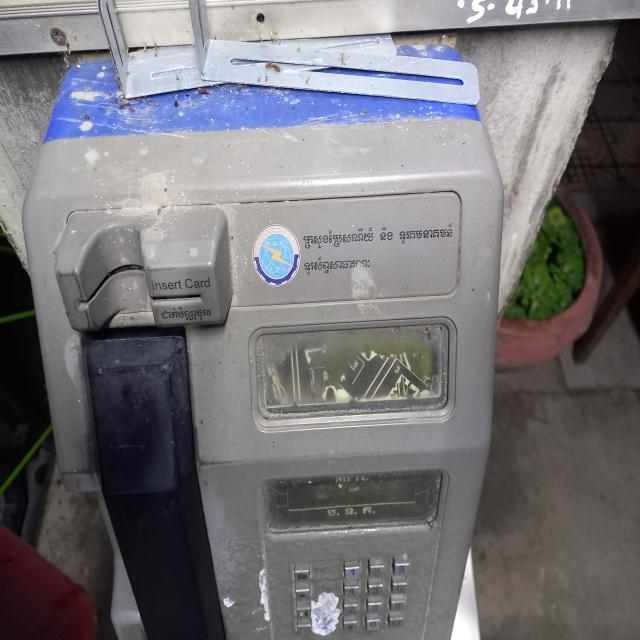Yolov11kh: (302, 225, 375, 250), (303, 253, 374, 277), (399, 220, 454, 246), (158, 303, 214, 326), (326, 502, 380, 520), (378, 225, 394, 243)
